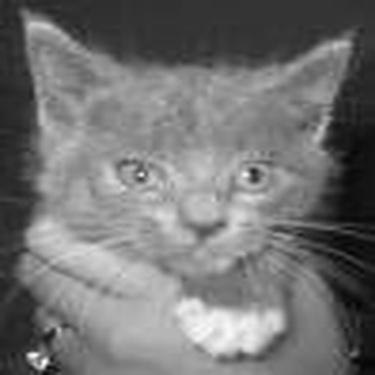cat: (12, 8, 358, 370)
